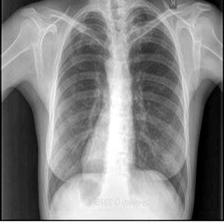tuberculosis: (42, 2, 190, 222)
